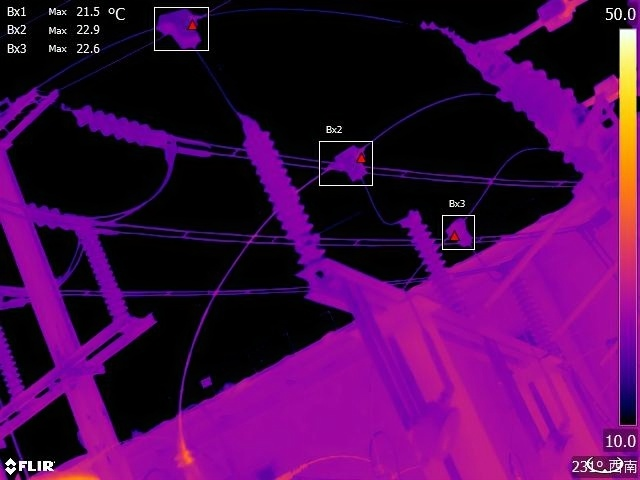insulator: (69, 95, 173, 149), (12, 205, 110, 233)
lightning arrester: (237, 112, 326, 262), (400, 208, 468, 312), (500, 258, 562, 357)
post insulator: (483, 55, 602, 156), (74, 229, 130, 312), (1, 329, 27, 395)
switch: (460, 1, 618, 72)
